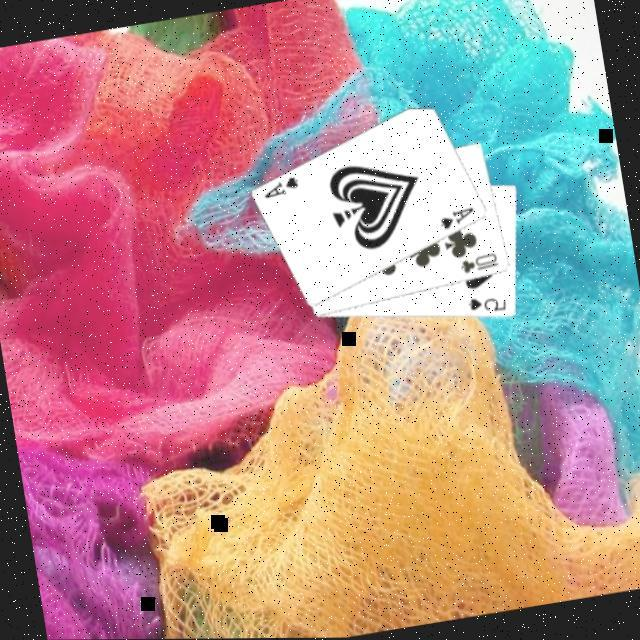10C: (456, 248, 504, 276)
5S: (466, 290, 510, 318)
AS: (258, 170, 304, 200), (436, 202, 480, 232)
